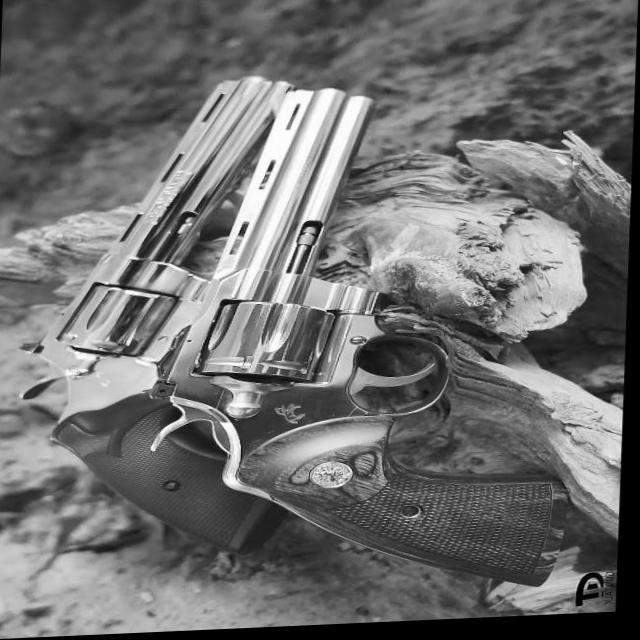handgun: (19, 71, 584, 618)
